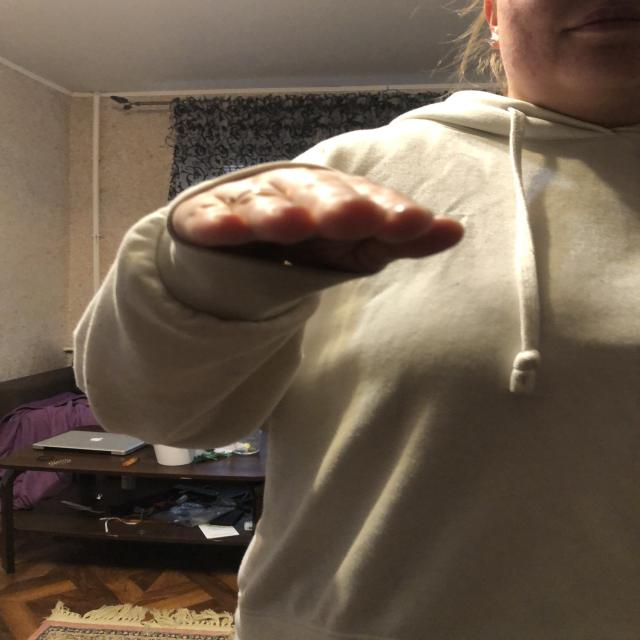paper: (170, 179, 460, 256)
